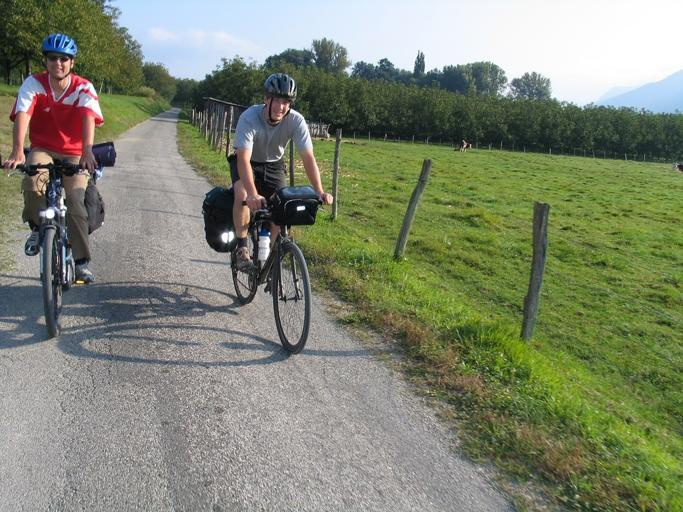non-vehicle: (0, 162, 96, 338), (219, 195, 323, 354)
